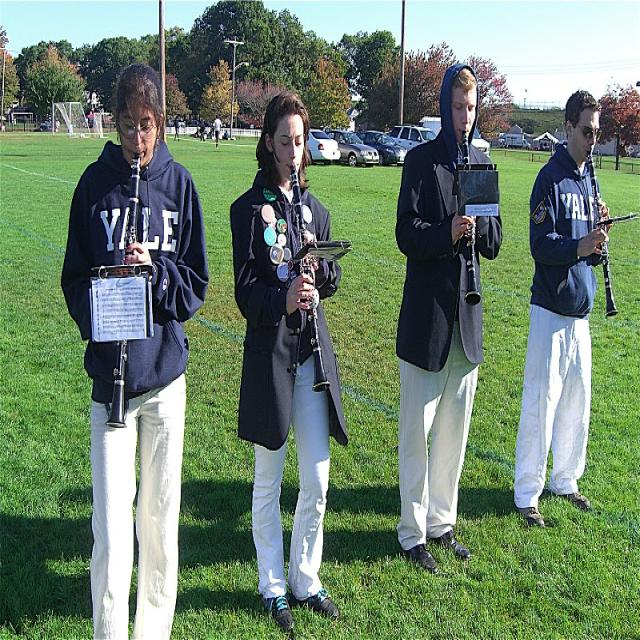clarinet: (286, 164, 332, 395), (107, 152, 144, 434), (586, 152, 620, 320), (460, 134, 481, 306)
